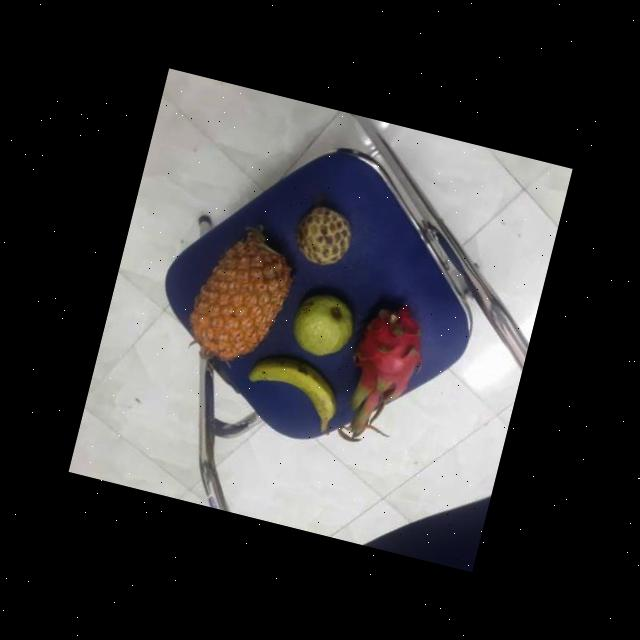Sakya fruit: (286, 200, 358, 270)
banana: (237, 347, 347, 441)
guava: (284, 287, 360, 363)
pineapple: (178, 222, 302, 372)
pitaya: (333, 300, 431, 425)
